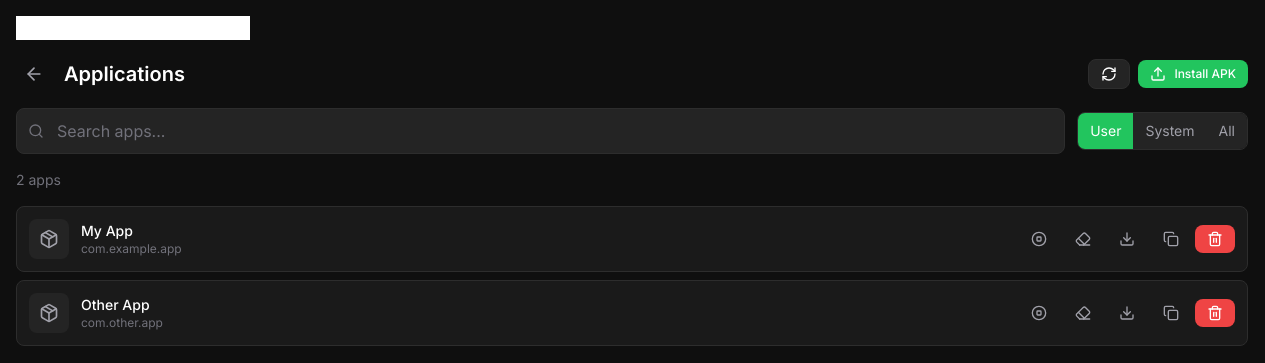
Test: AppsPage › filters apps by search
The width and height of the screenshot is (1265, 363).
Check: the text "My App" is shown, box top-left (81, 222), bottom-right (133, 239)
Step 1. Type "Other" into the field with placeholder "Search apps..." → (541,131), box top-left (16, 108), bottom-right (1065, 154)
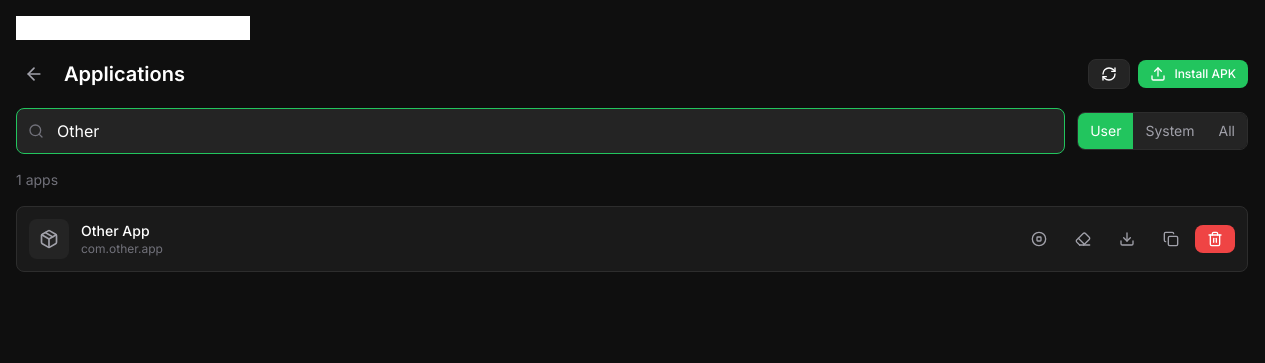
Check: the text "Other App" is shown, box top-left (81, 222), bottom-right (150, 239)
Check: the text "My App" is gone
